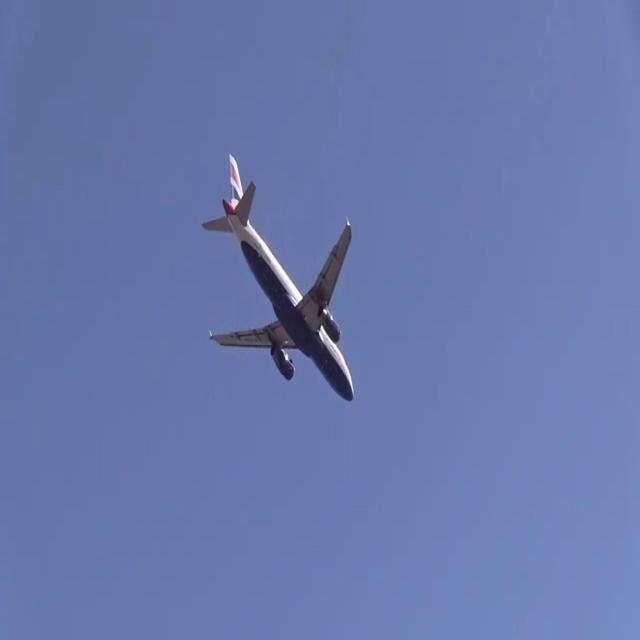Airaplan: (201, 152, 357, 402)
